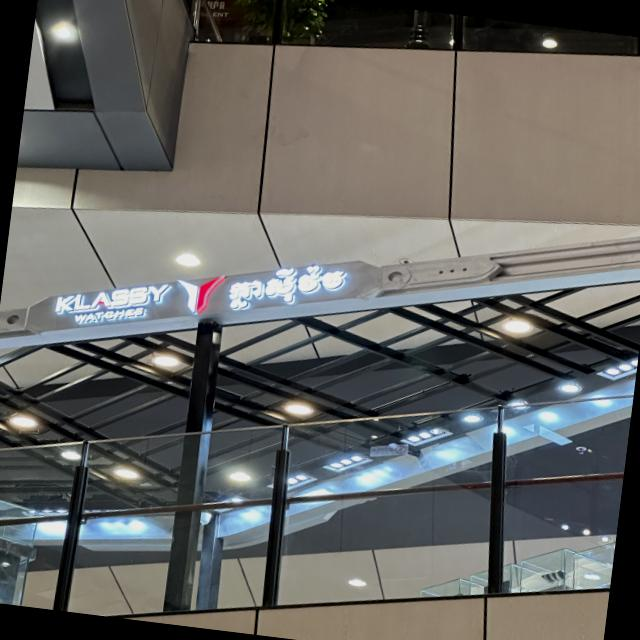Yolov11_80vkh: (218, 262, 351, 311)
